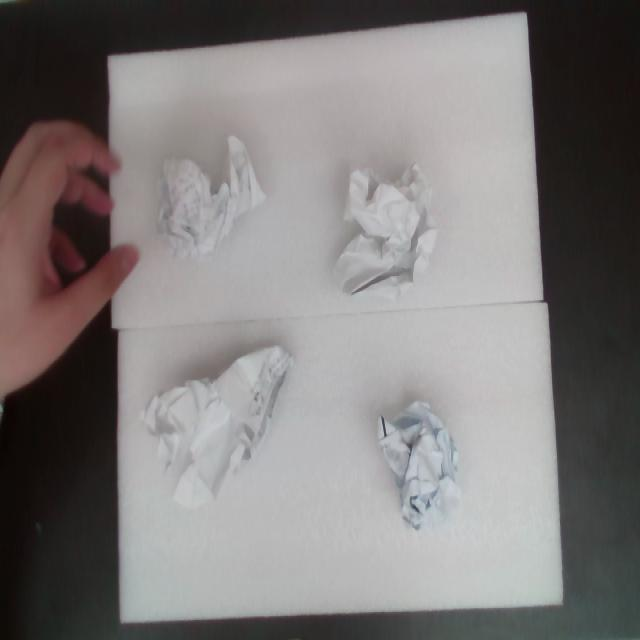paper: (119, 322, 350, 548), (299, 128, 471, 337), (128, 116, 285, 290), (360, 380, 481, 551)
